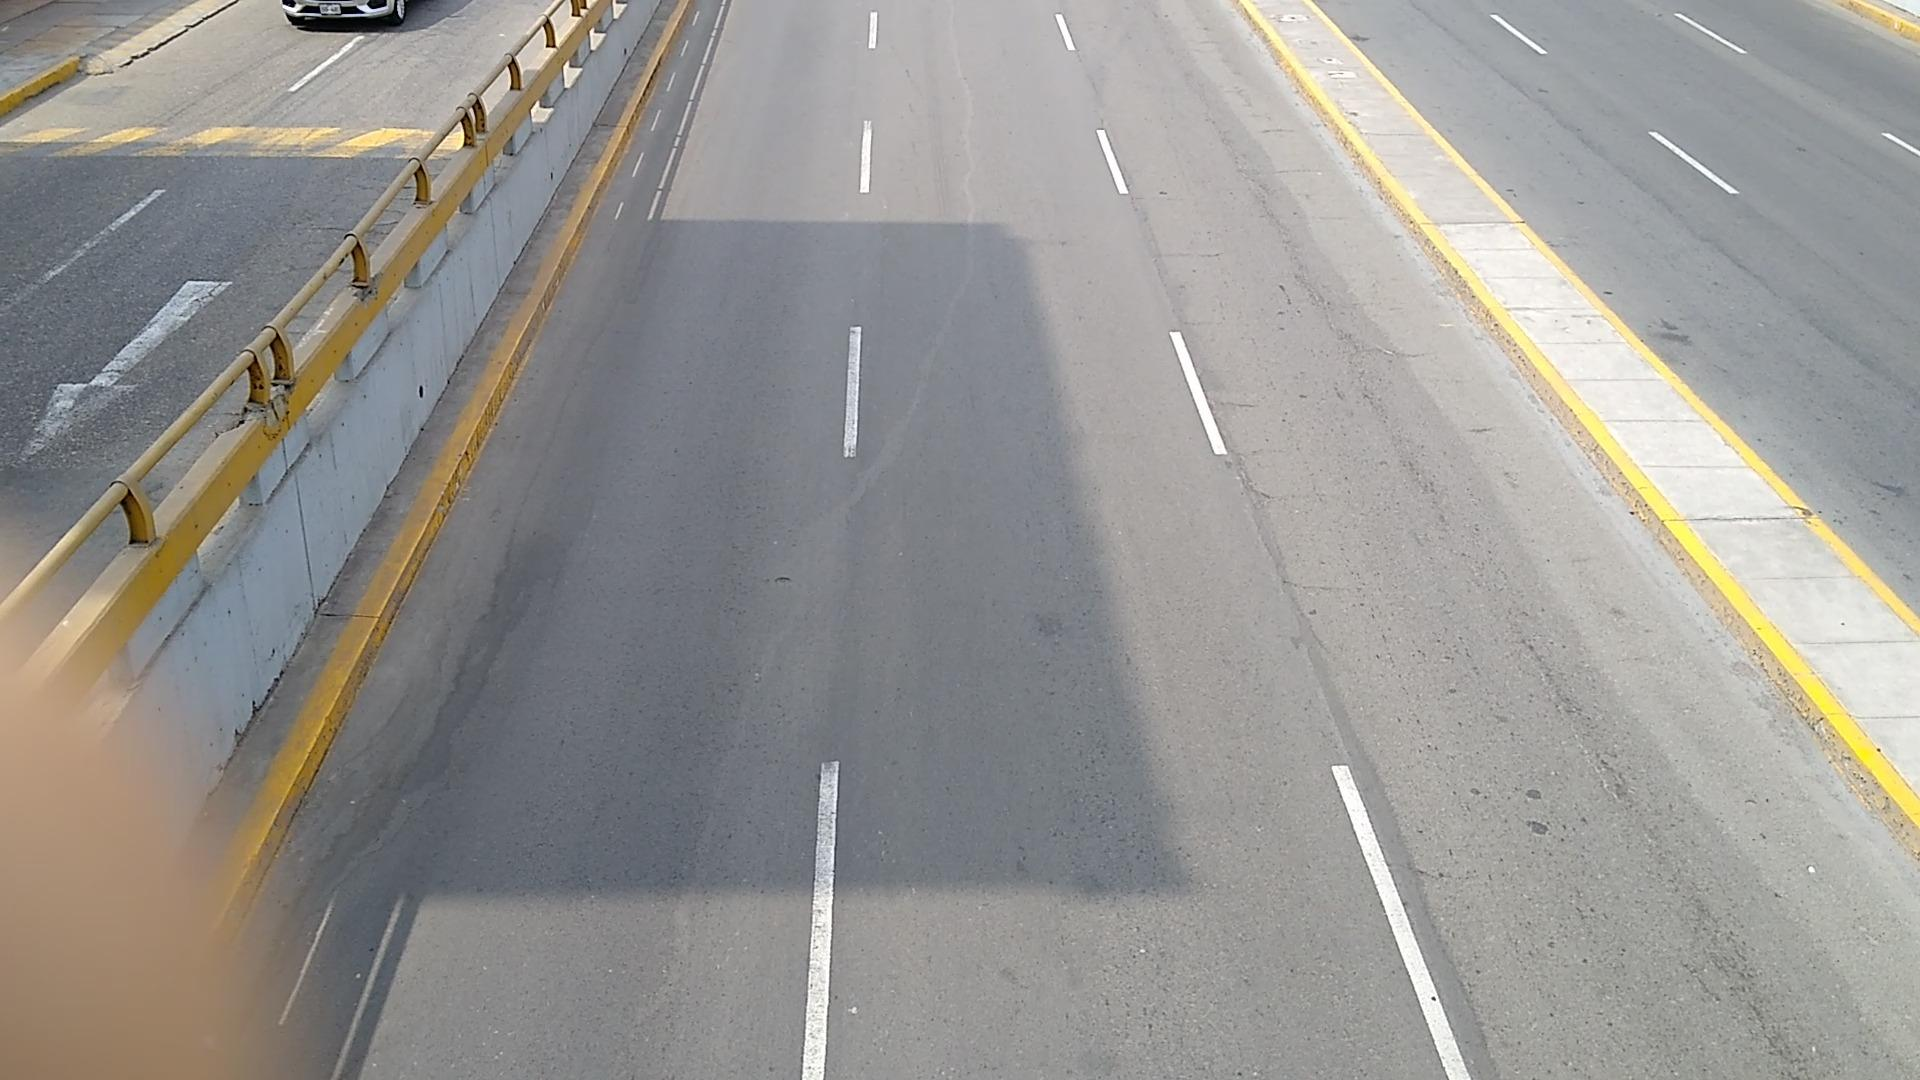car: (281, 0, 409, 26)
